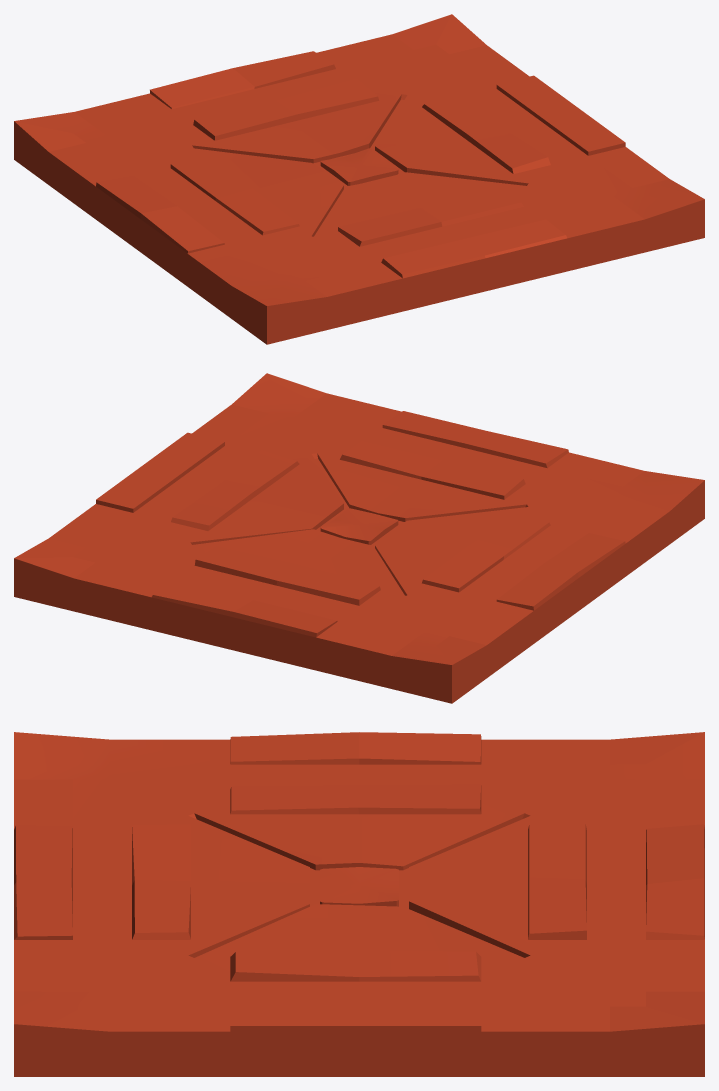
The model's file is Floor1.FBX.
The picture shows the model from 3 angles, top to bottom: view 1: azimuth 30°, elevation 25°; view 2: azimuth 150°, elevation 25°; view 3: azimuth 270°, elevation 25°; orthographic projection. The views are drawn at different scales.
Parts seen in each view (by area): view 1: Floor1; view 2: Floor1; view 3: Floor1.
Part boxes in pixels (bbox=[...]): Floor1: bbox=[14, 14, 704, 344]; Floor1: bbox=[14, 373, 704, 703]; Floor1: bbox=[14, 732, 704, 1076].
Bounding box in the file's own units: 118 × 10.23 × 118.
